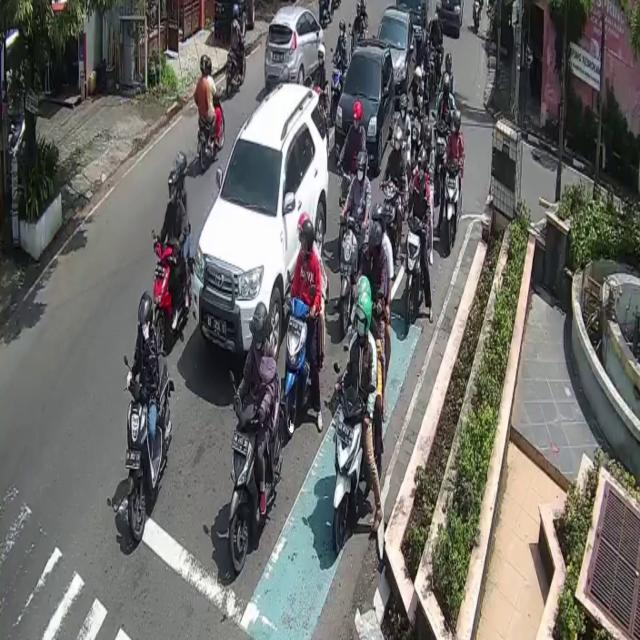bus: (228, 375, 280, 578), (128, 350, 174, 541), (334, 386, 366, 552), (154, 244, 195, 347), (286, 290, 314, 430), (404, 213, 426, 335), (338, 216, 358, 335), (443, 156, 460, 244)
motorcycle: (192, 80, 328, 374), (334, 39, 395, 177), (265, 5, 326, 88), (374, 5, 417, 107)
